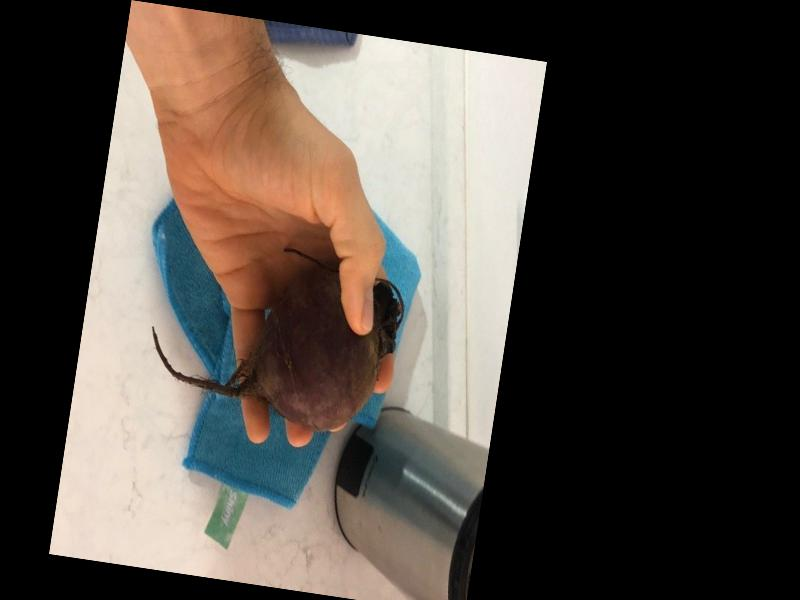Beet: (140, 231, 409, 440)
